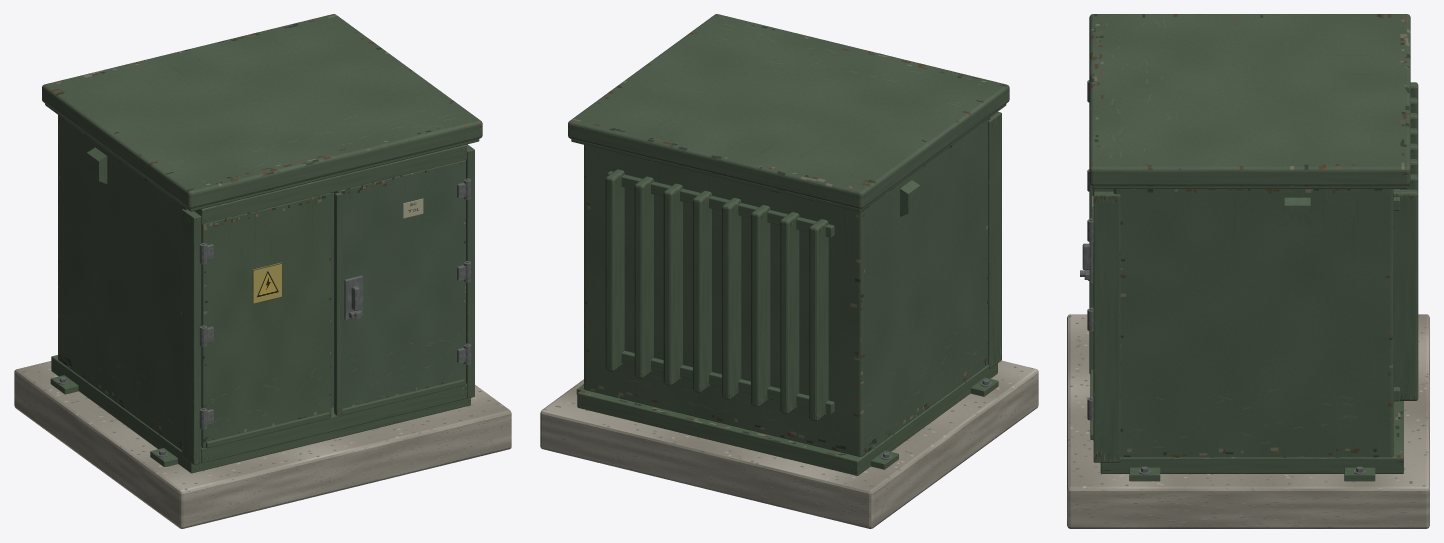
Rendered from BC_XFMR01_closed.glb.
3 views of the same model, side by side, from view 1: azimuth 30°, elevation 25°; view 2: azimuth 150°, elevation 25°; view 3: azimuth 270°, elevation 25° (orthographic). The views are drawn at different scales.
Parts seen in each view (by area): view 1: BC_XFMR01_Cabinet, BC_XFMR01_Door_Right, BC_XFMR01_Door_Left, BC_XFMR01_Plinth; view 2: BC_XFMR01_Cabinet, BC_XFMR01_Plinth; view 3: BC_XFMR01_Cabinet, BC_XFMR01_Plinth, BC_XFMR01_Door_Right.
Part boxes in pixels (<box>): BC_XFMR01_Cabinet: <box>42,14,482,473</box>; BC_XFMR01_Door_Right: <box>334,160,471,415</box>; BC_XFMR01_Door_Left: <box>199,193,331,448</box>; BC_XFMR01_Plinth: <box>14,361,511,528</box>; BC_XFMR01_Cabinet: <box>568,14,1009,475</box>; BC_XFMR01_Plinth: <box>540,360,1038,528</box>; BC_XFMR01_Cabinet: <box>1089,14,1418,481</box>; BC_XFMR01_Plinth: <box>1067,314,1429,528</box>; BC_XFMR01_Door_Right: <box>1080,183,1093,440</box>.
Size of the model in its own units: 1.6 by 1.5 by 1.4.
1 material, 1 textured.
